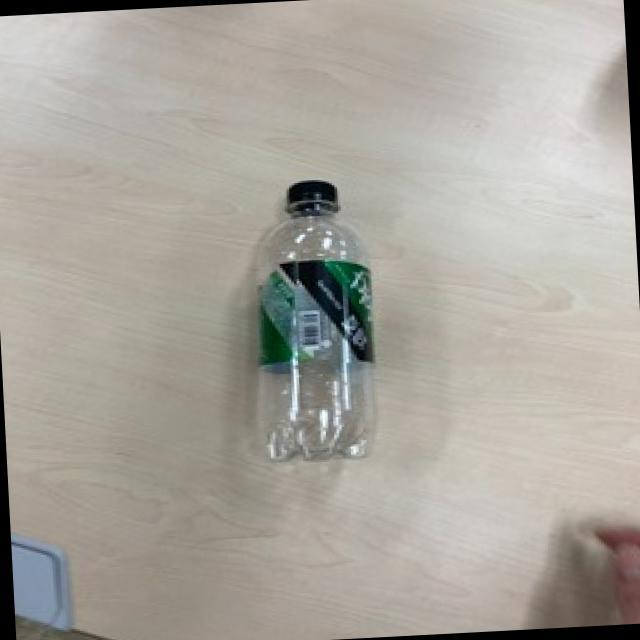good: (242, 170, 388, 476)
